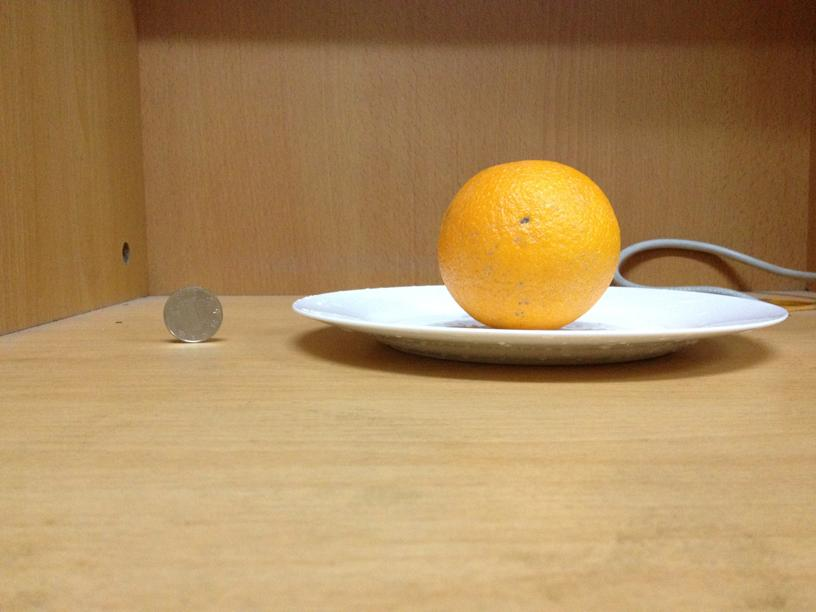coin: (161, 284, 219, 343)
orange: (437, 161, 620, 326)
